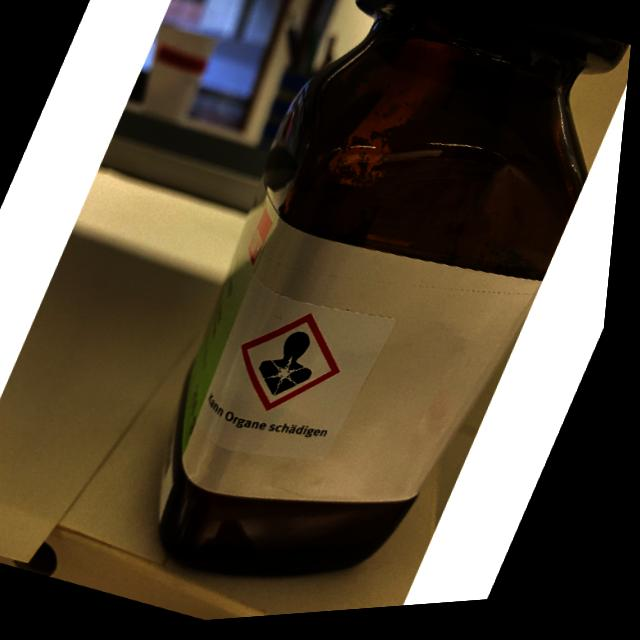serious health hazard: (222, 297, 369, 436)
